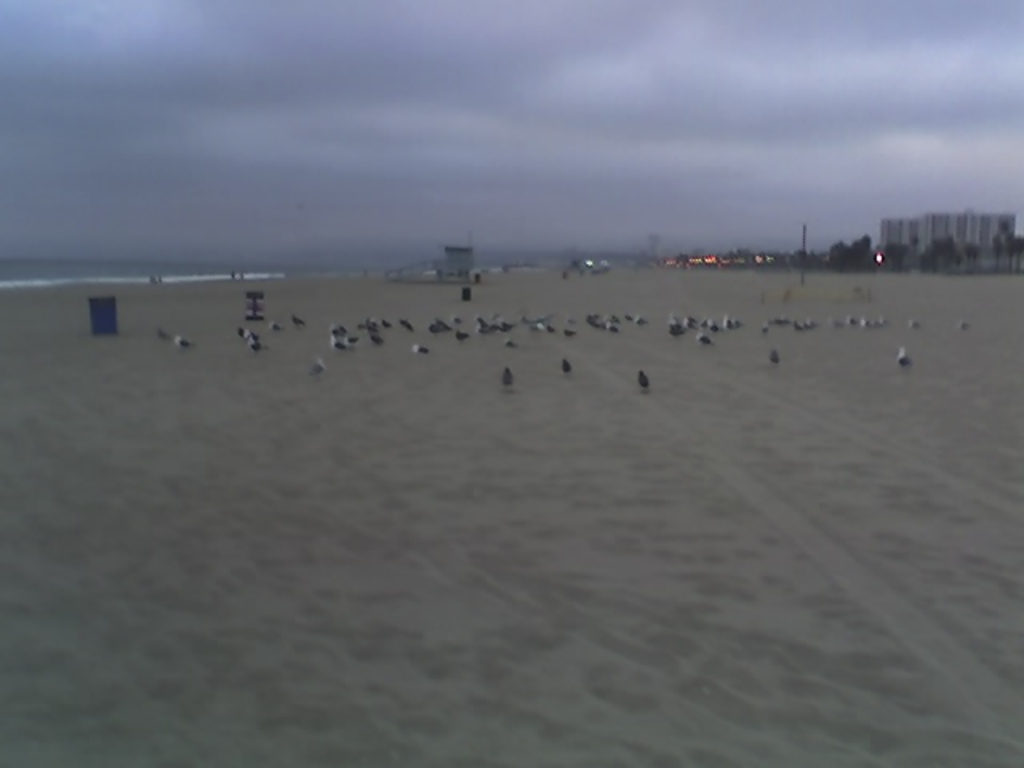Bird: (427, 314, 922, 349), (326, 317, 394, 354), (237, 326, 267, 355), (398, 320, 418, 333), (154, 326, 171, 341), (640, 373, 653, 392), (899, 347, 912, 366), (770, 350, 782, 368), (501, 370, 512, 389), (310, 362, 323, 378), (266, 322, 282, 333), (176, 336, 190, 347), (957, 320, 968, 334), (290, 317, 306, 326), (410, 346, 426, 355), (562, 363, 571, 374)
